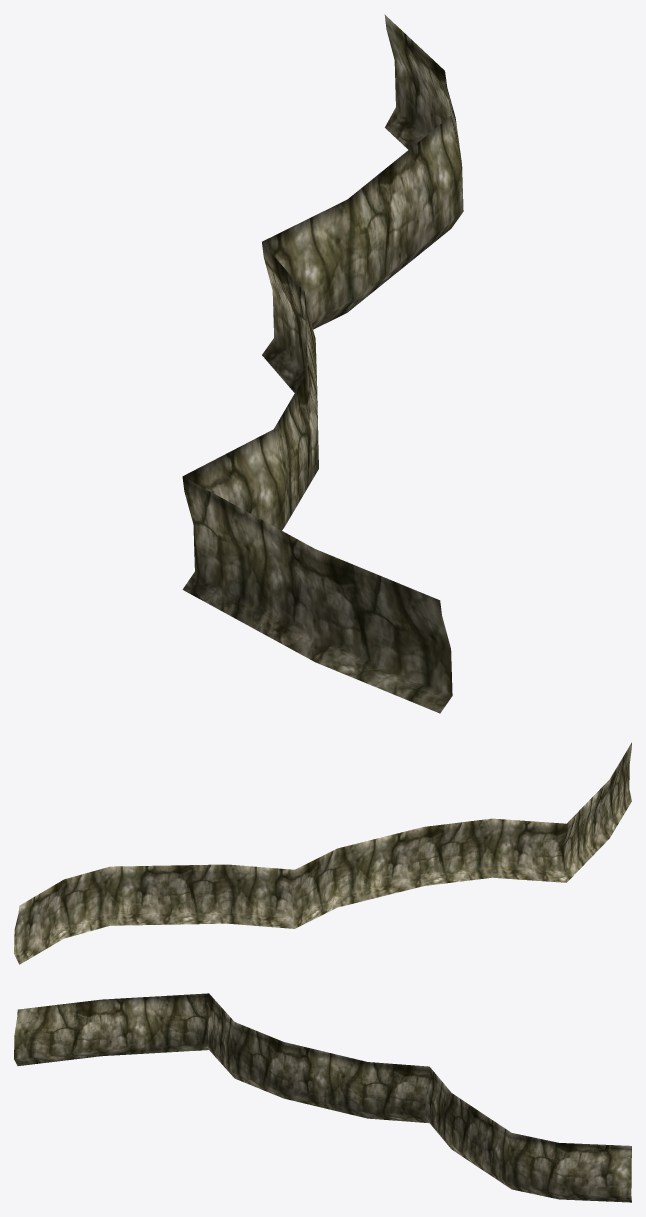
File: CB_NEWPLAYSURFACE_CB_PLAYSURFACE94.fbx
The picture shows the model from 3 angles, top to bottom: view 1: azimuth 30°, elevation 25°; view 2: azimuth 150°, elevation 25°; view 3: azimuth 270°, elevation 25°; orthographic projection. The views are drawn at different scales.
Visible parts, largest first — view 1: CB_NEWPLAYSURFACE_CB_PLAYSURFACE94; view 2: CB_NEWPLAYSURFACE_CB_PLAYSURFACE94; view 3: CB_NEWPLAYSURFACE_CB_PLAYSURFACE94.
Part boxes in pixels (bbox=[...]): CB_NEWPLAYSURFACE_CB_PLAYSURFACE94: bbox=[182, 14, 463, 713]; CB_NEWPLAYSURFACE_CB_PLAYSURFACE94: bbox=[14, 742, 631, 964]; CB_NEWPLAYSURFACE_CB_PLAYSURFACE94: bbox=[14, 993, 631, 1202].
Bounding box in the file's own units: 234907 × 40000 × 395404.
1 material, 1 textured.
